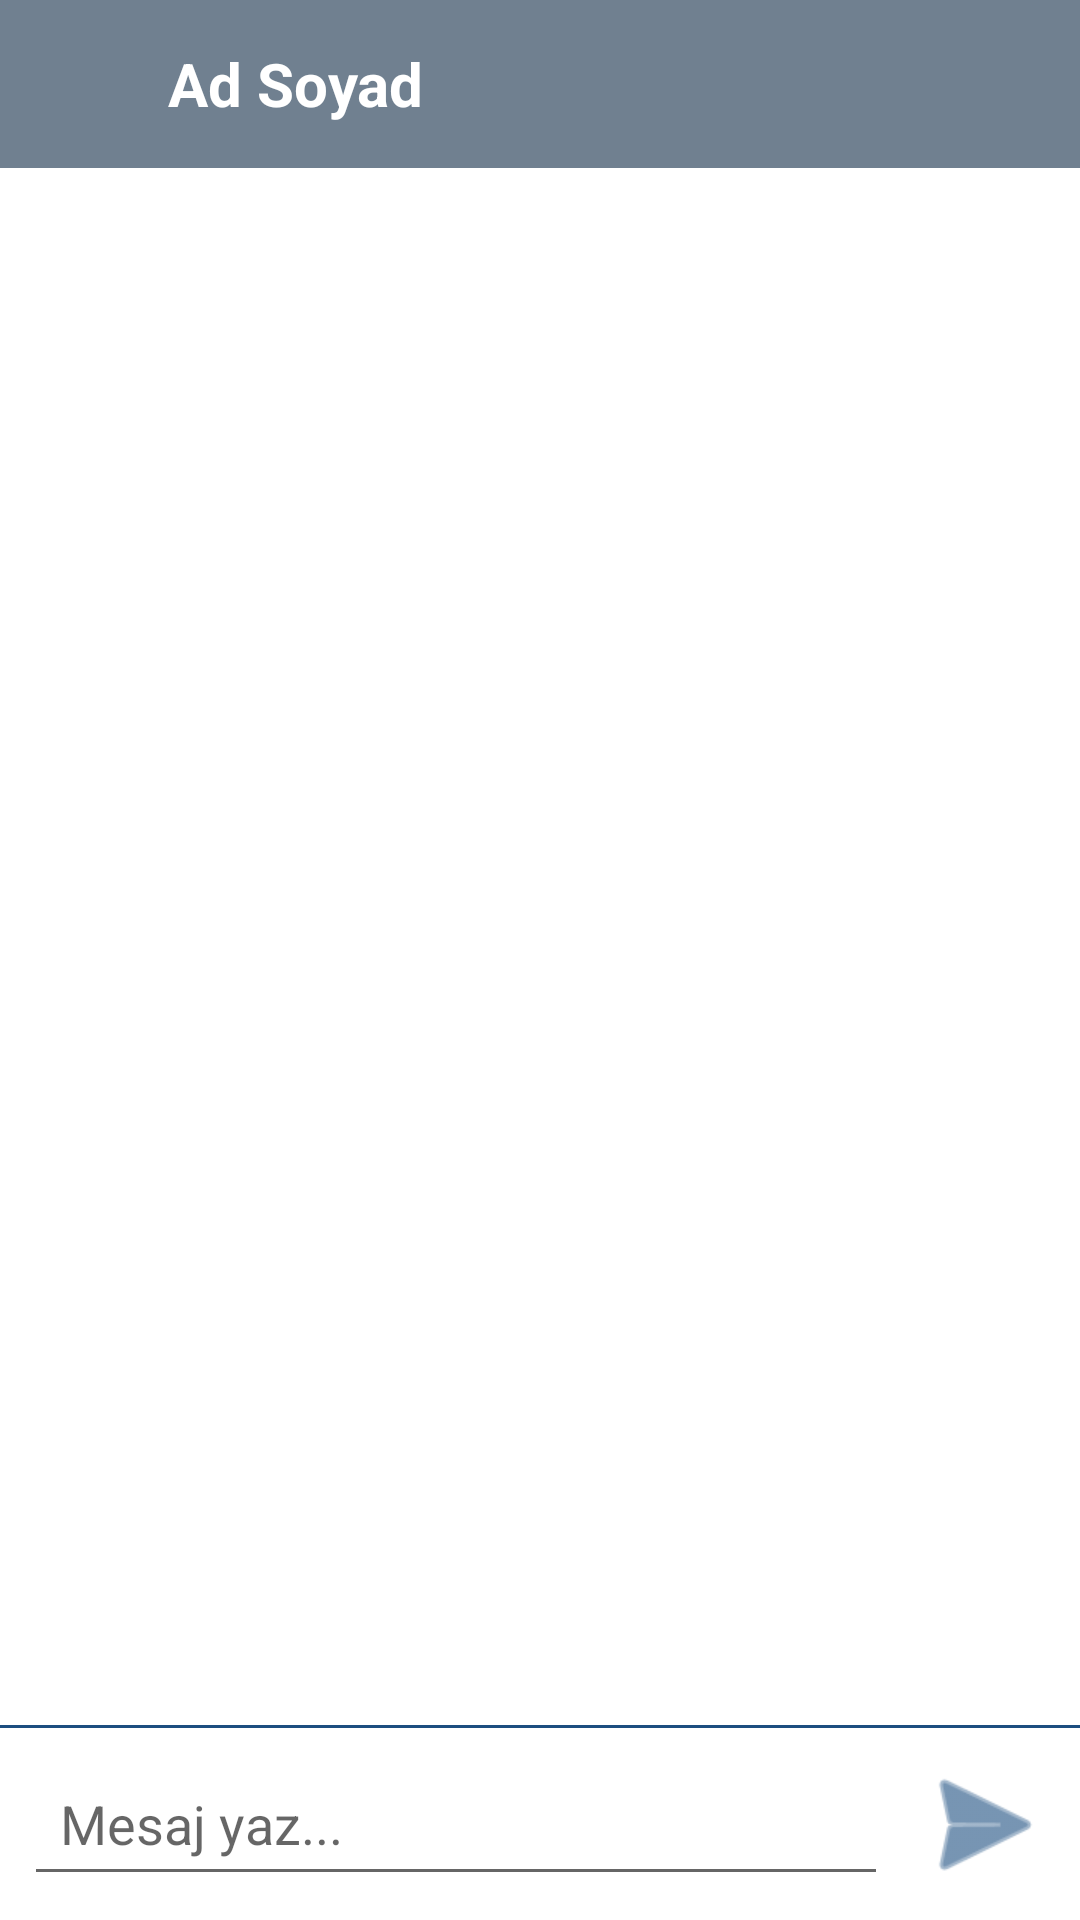

Icons on this 1080w x 1920h Android screen, each with its box as [x1, y1, x2, y2]:
Send: [939, 1779, 1031, 1870]
